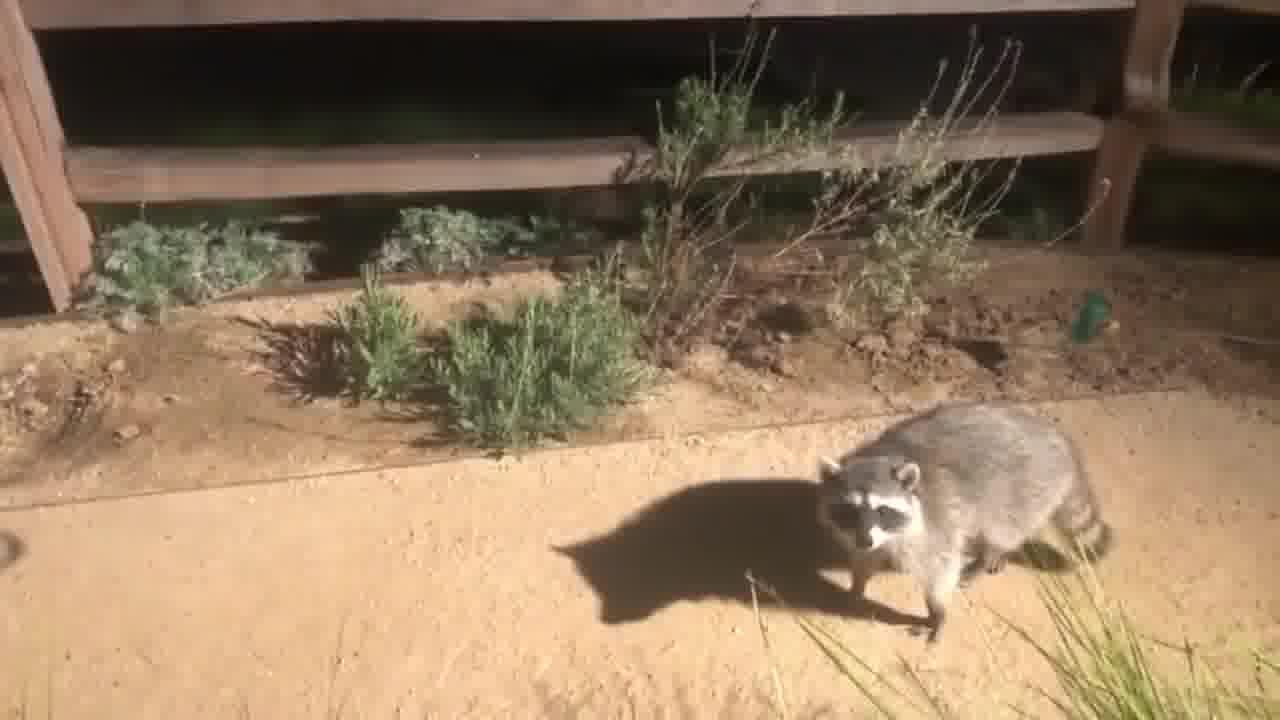raccoon: (819, 395, 1116, 635)
